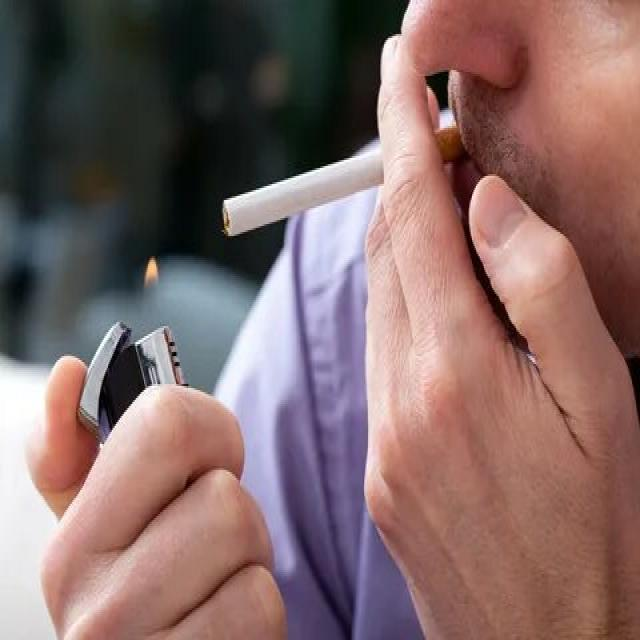cigarette: (217, 126, 468, 244)
